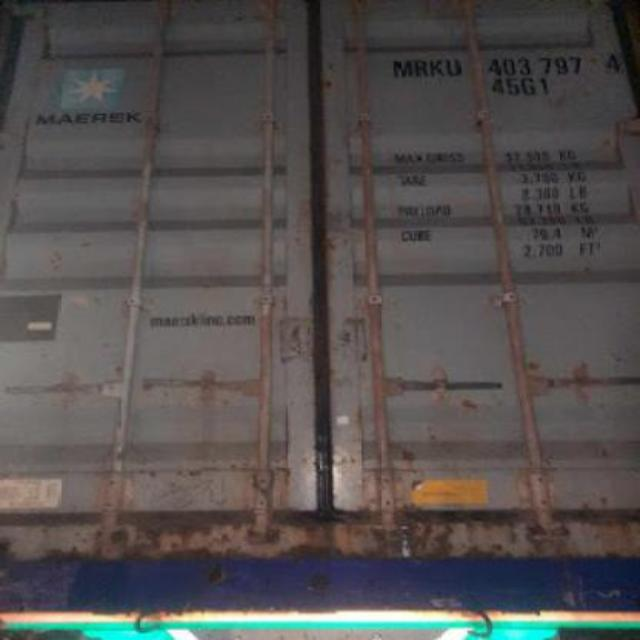0: (504, 52, 516, 82)
3: (518, 52, 532, 78)
4: (600, 45, 624, 77), (486, 54, 502, 80)
7: (568, 52, 584, 82), (536, 49, 552, 76)
9: (554, 48, 568, 76)
K: (428, 50, 444, 86)
M: (388, 54, 412, 86)
R: (412, 51, 428, 87)
U: (444, 56, 464, 84)
